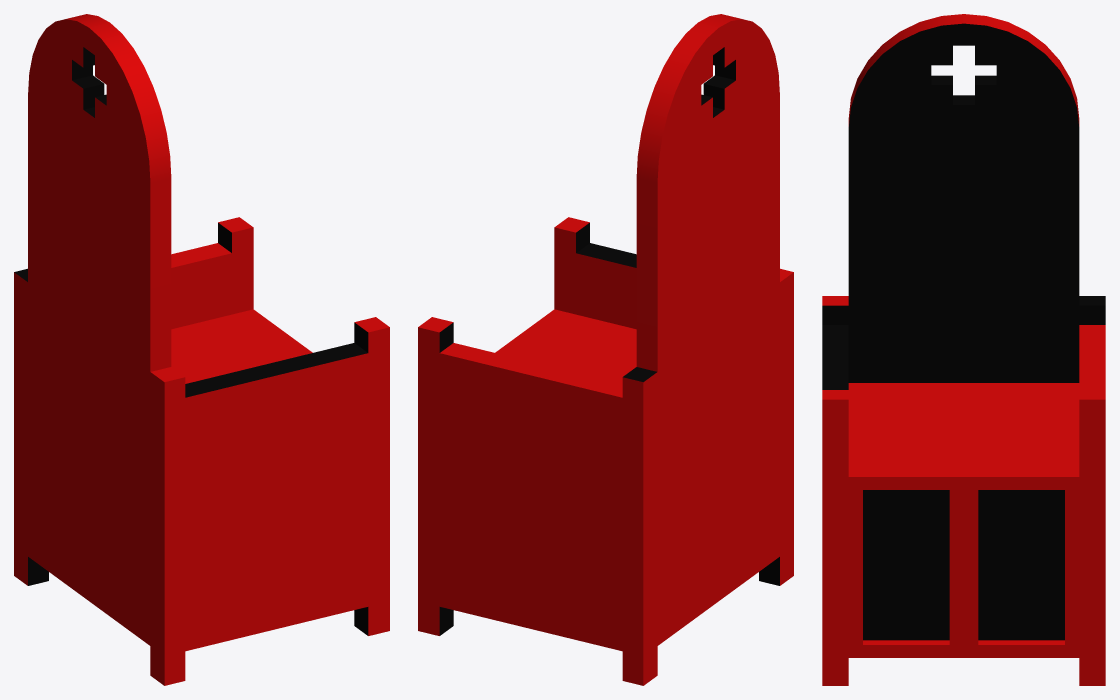
File: Chair_3.fbx
3 views of the same model, side by side, from view 1: azimuth 30°, elevation 25°; view 2: azimuth 150°, elevation 25°; view 3: azimuth 270°, elevation 25° (orthographic). The views are drawn at different scales.
Visible parts, largest first — view 1: Chair_3; view 2: Chair_3; view 3: Chair_3.
Boxes of the visible parts, left/top/right/bottom form: Chair_3: left=14, top=14, right=389, bottom=685; Chair_3: left=418, top=14, right=793, bottom=685; Chair_3: left=822, top=14, right=1105, bottom=685.
Size of the model in its own units: 60.53 by 52.36 by 134.
